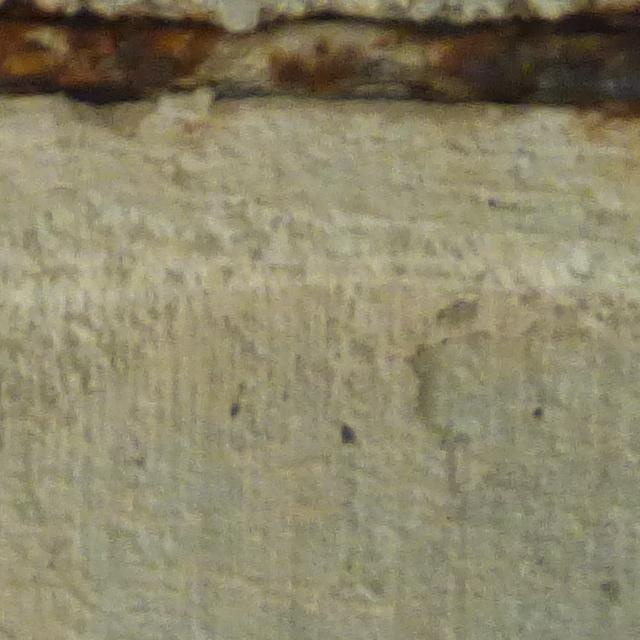Rust: (8, 1, 640, 104)
